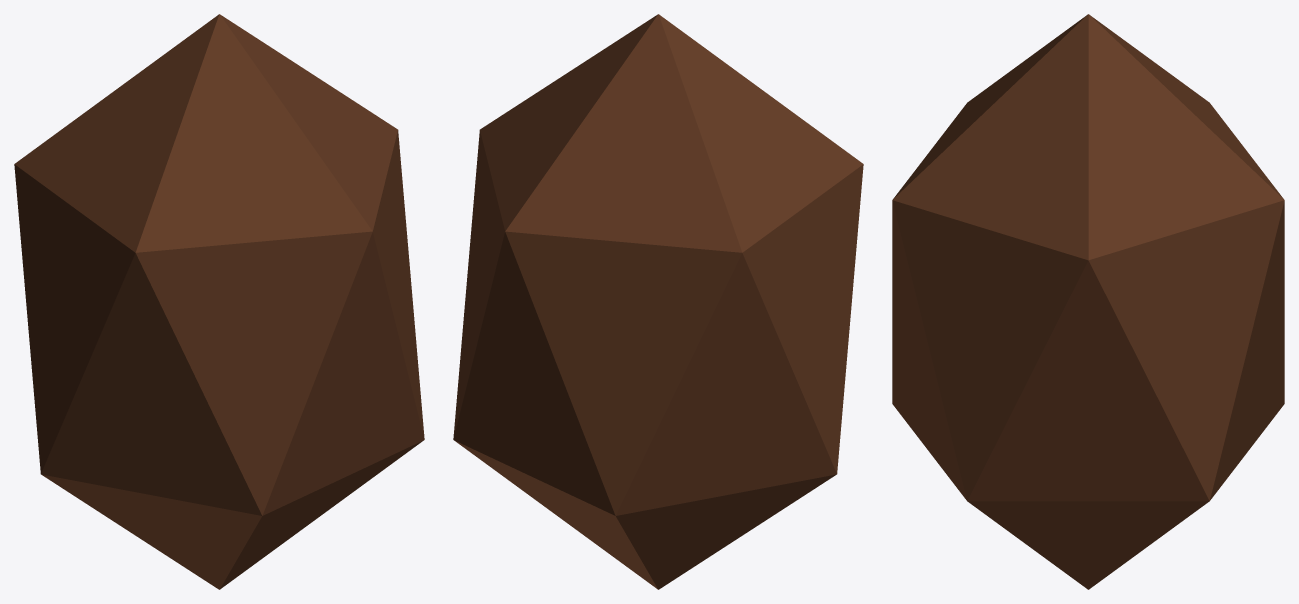
The model's file is Coconut.fbx.
3 views of the same model, side by side, from view 1: azimuth 30°, elevation 25°; view 2: azimuth 150°, elevation 25°; view 3: azimuth 270°, elevation 25° (orthographic).
Parts seen in each view (by area): view 1: Coconut; view 2: Coconut; view 3: Coconut.
Part boxes in pixels (<box>): Coconut: <box>14,14,424,589</box>; Coconut: <box>453,14,863,589</box>; Coconut: <box>892,14,1284,589</box>.
Size of the model in its own units: 26.34 by 40.58 by 25.05.
